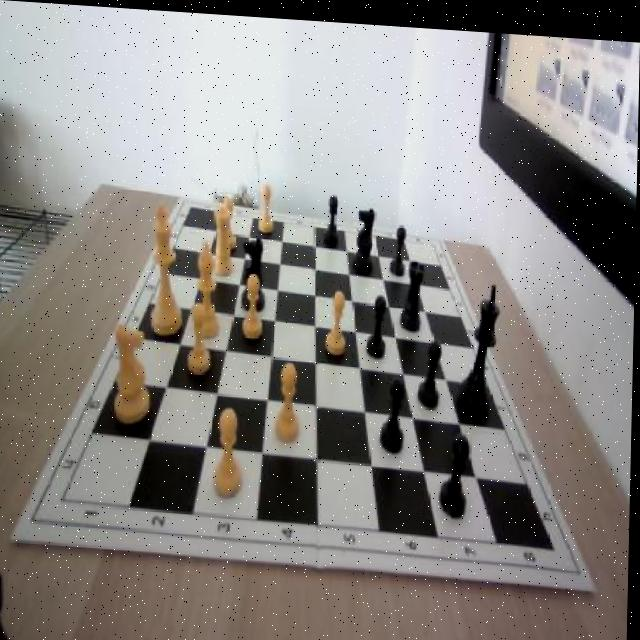black-bishop: (459, 277, 503, 414)
black-king: (238, 230, 268, 312), (354, 199, 377, 272)
black-knight: (441, 427, 471, 512), (382, 369, 409, 448), (418, 333, 443, 404), (368, 287, 391, 356), (325, 188, 342, 239), (391, 219, 407, 273)
black-queen: (399, 249, 427, 327)
black-rook: (194, 237, 225, 336)
white-bishop: (151, 204, 187, 335)
white-king: (113, 323, 153, 427)
white-knight: (213, 404, 247, 496), (274, 355, 307, 441), (186, 298, 215, 376), (240, 270, 266, 339), (328, 283, 350, 351), (258, 181, 277, 231), (221, 195, 239, 246)
white-queen: (212, 202, 237, 274)
